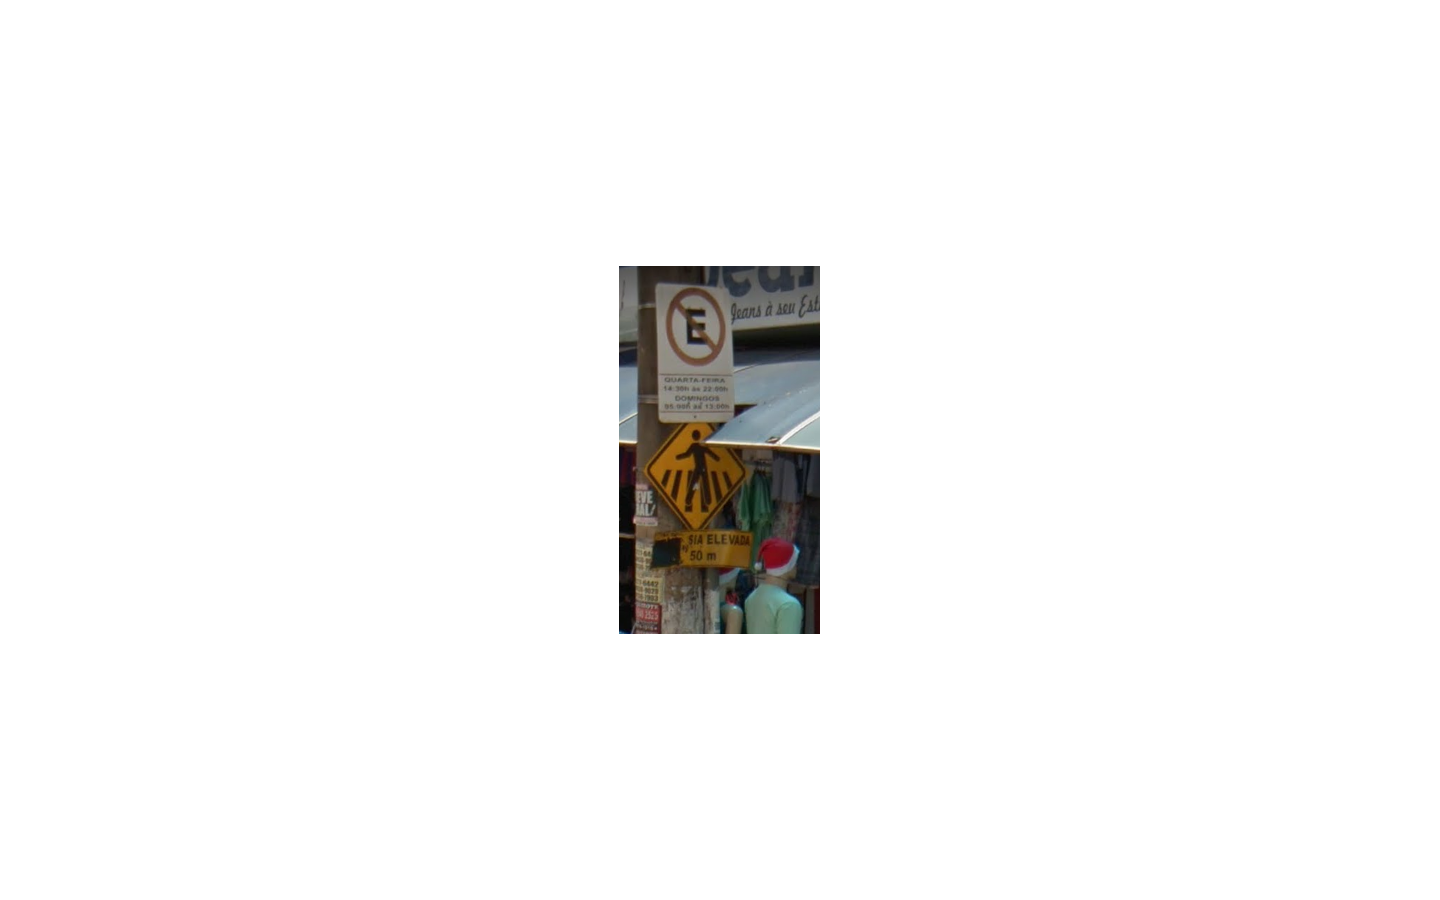t50m: (644, 423, 753, 570)
